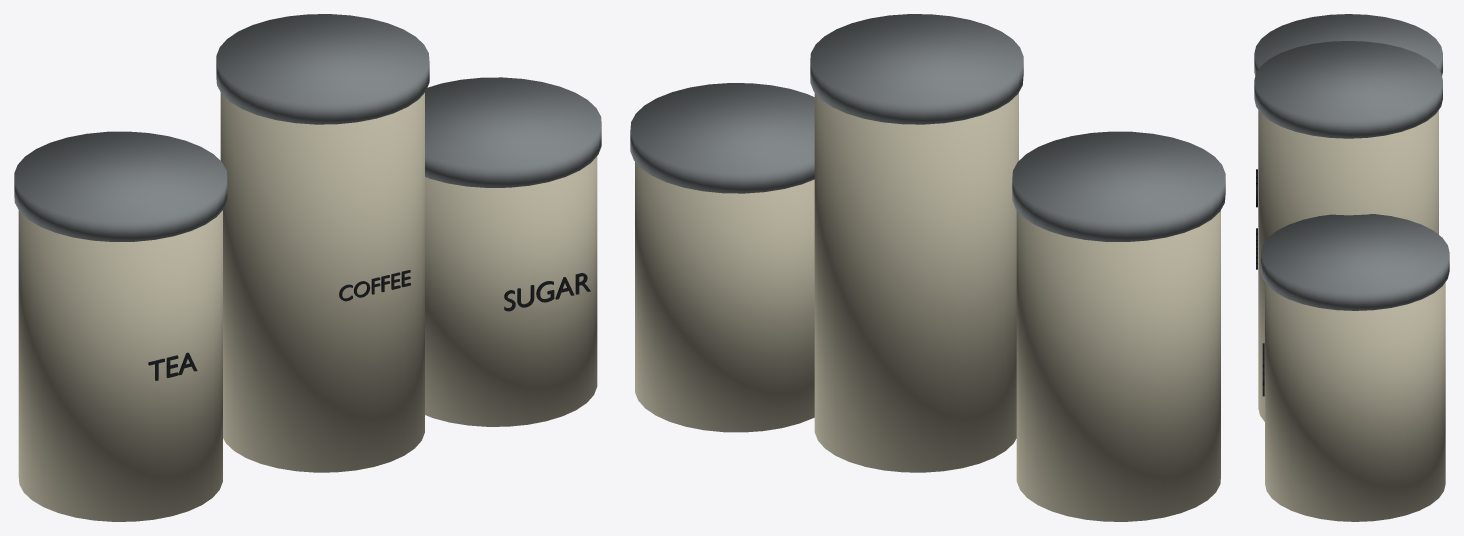
File: kitchen-pantry-tins.glb
The picture shows the model from 3 angles, left to right: view 1: azimuth 30°, elevation 25°; view 2: azimuth 150°, elevation 25°; view 3: azimuth 270°, elevation 25°; orthographic projection. The views are drawn at different scales.
Parts seen in each view (by area): view 1: Old pantry tin.001, Old pantry tin, Old pantry tin.002, Seated tin lid.001, Seated tin lid, Seated tin lid.002, Tin label.002, Tin label.001; view 2: Old pantry tin.001, Old pantry tin, Old pantry tin.002, Seated tin lid, Seated tin lid.001, Seated tin lid.002; view 3: Old pantry tin.002, Old pantry tin.001, Seated tin lid.001, Seated tin lid.002, Seated tin lid.
Part boxes in pixels (<box>): Old pantry tin.001: <box>220,92,424,472</box>; Old pantry tin: <box>18,210,222,521</box>; Old pantry tin.002: <box>425,156,597,426</box>; Seated tin lid.001: <box>216,14,429,124</box>; Seated tin lid: <box>14,131,227,241</box>; Seated tin lid.002: <box>425,77,601,187</box>; Tin label.002: <box>504,273,590,311</box>; Tin label.001: <box>339,270,410,301</box>; Old pantry tin.001: <box>814,93,1018,472</box>; Old pantry tin: <box>1016,210,1220,521</box>; Old pantry tin.002: <box>635,162,814,432</box>; Seated tin lid: <box>1012,131,1225,241</box>; Seated tin lid.001: <box>810,14,1023,124</box>; Seated tin lid.002: <box>630,83,814,193</box>; Old pantry tin.002: <box>1265,282,1445,521</box>; Old pantry tin.001: <box>1258,110,1438,421</box>; Seated tin lid.001: <box>1254,41,1442,138</box>; Seated tin lid.002: <box>1261,214,1449,310</box>; Seated tin lid: <box>1254,14,1442,75</box>.
Size of the model in its own units: 0.432 by 0.2715 by 0.147.
